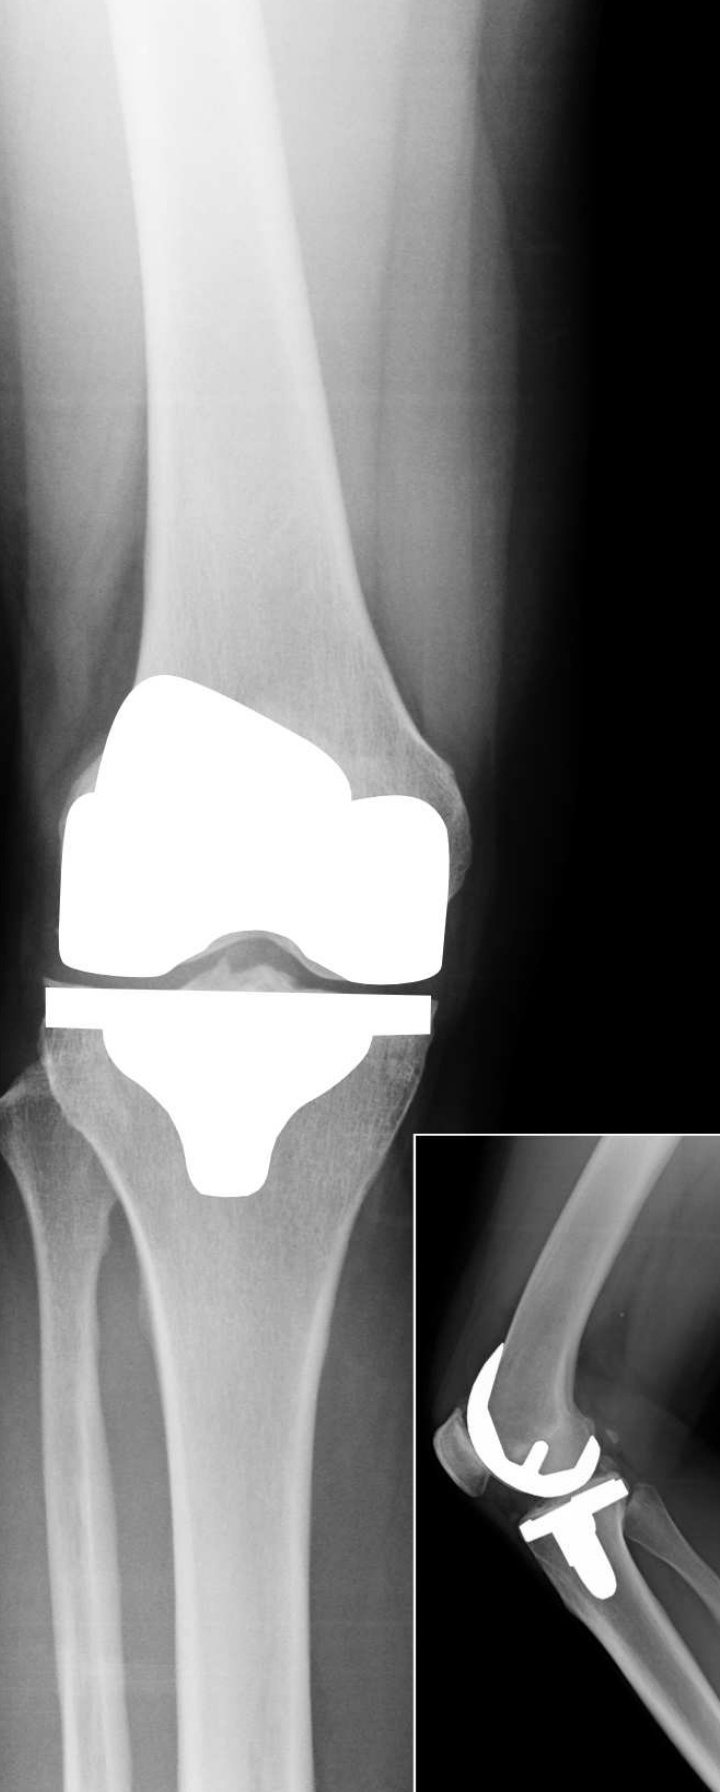Knee-Triathlon-Stryker: (21, 666, 477, 1214), (472, 1344, 648, 1603)
